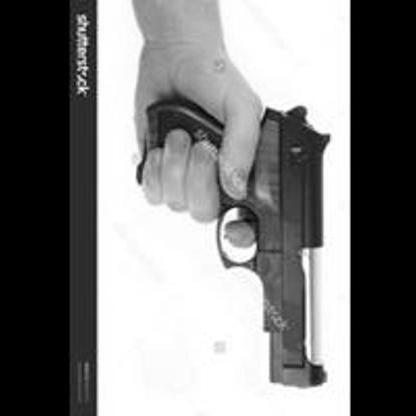weapon: (136, 86, 334, 398)
